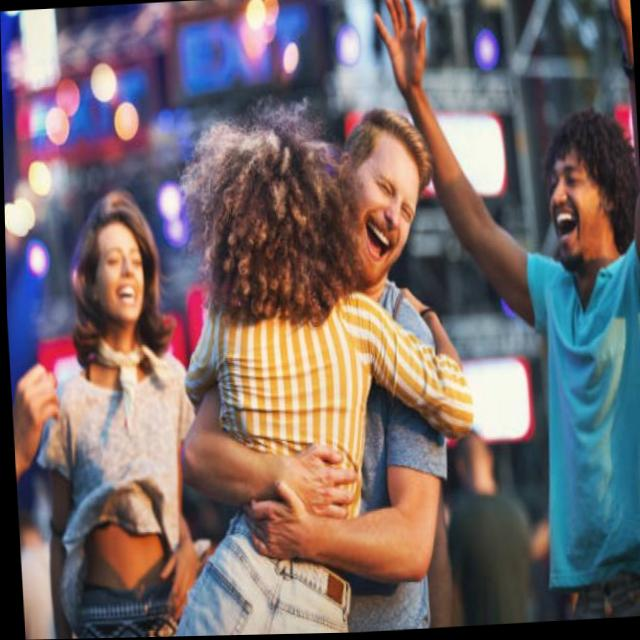no helmet: (168, 100, 363, 357)
